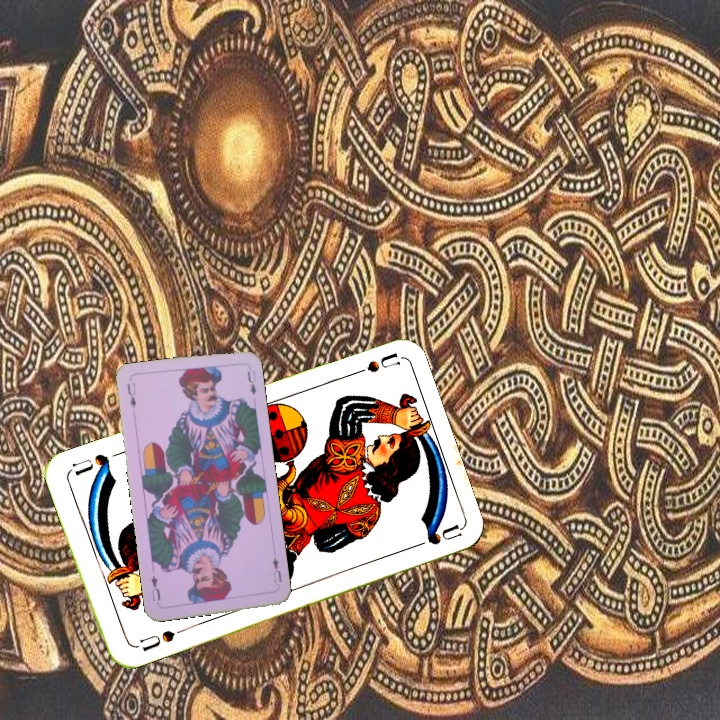EU: (268, 554, 284, 586), (123, 379, 139, 411)
SU: (342, 349, 400, 380), (129, 626, 178, 654)
